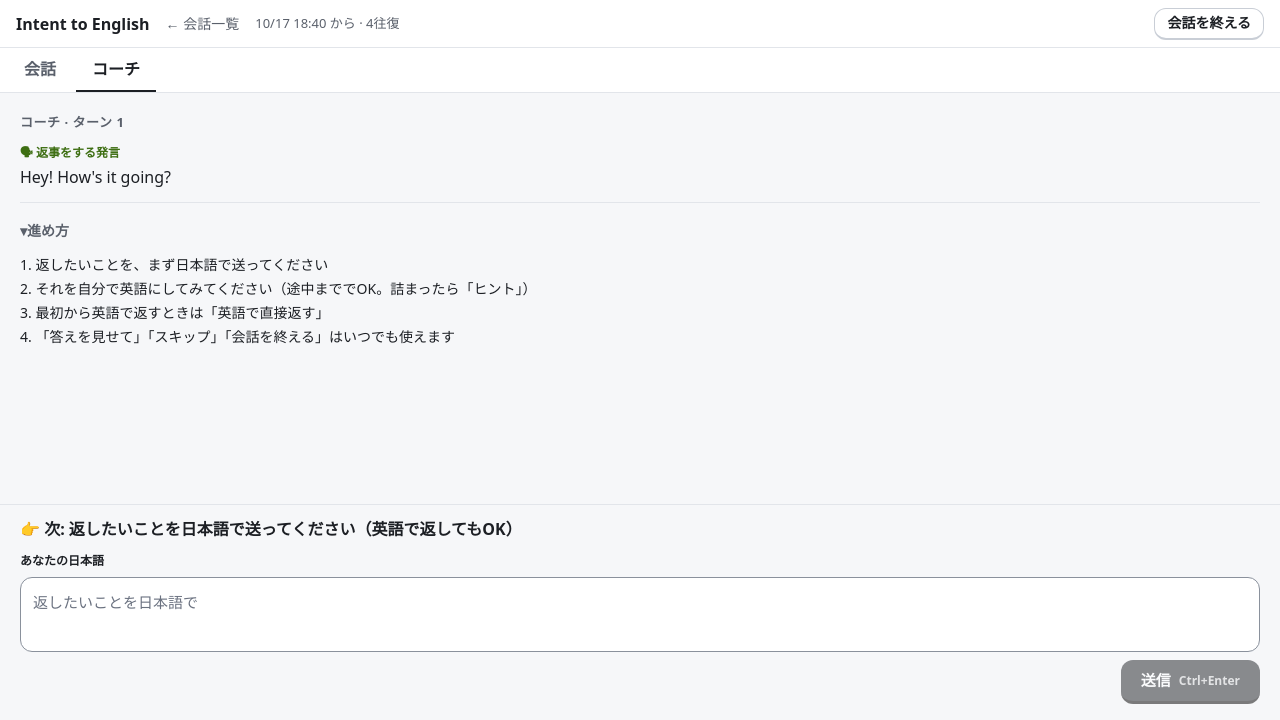
Test case: /sessions/$sessionId › hands focus to the transcript after an end retry with wide layout: false
Click the button "会話を終える". click: [1209, 24]
box: [1154,8,1264,40]
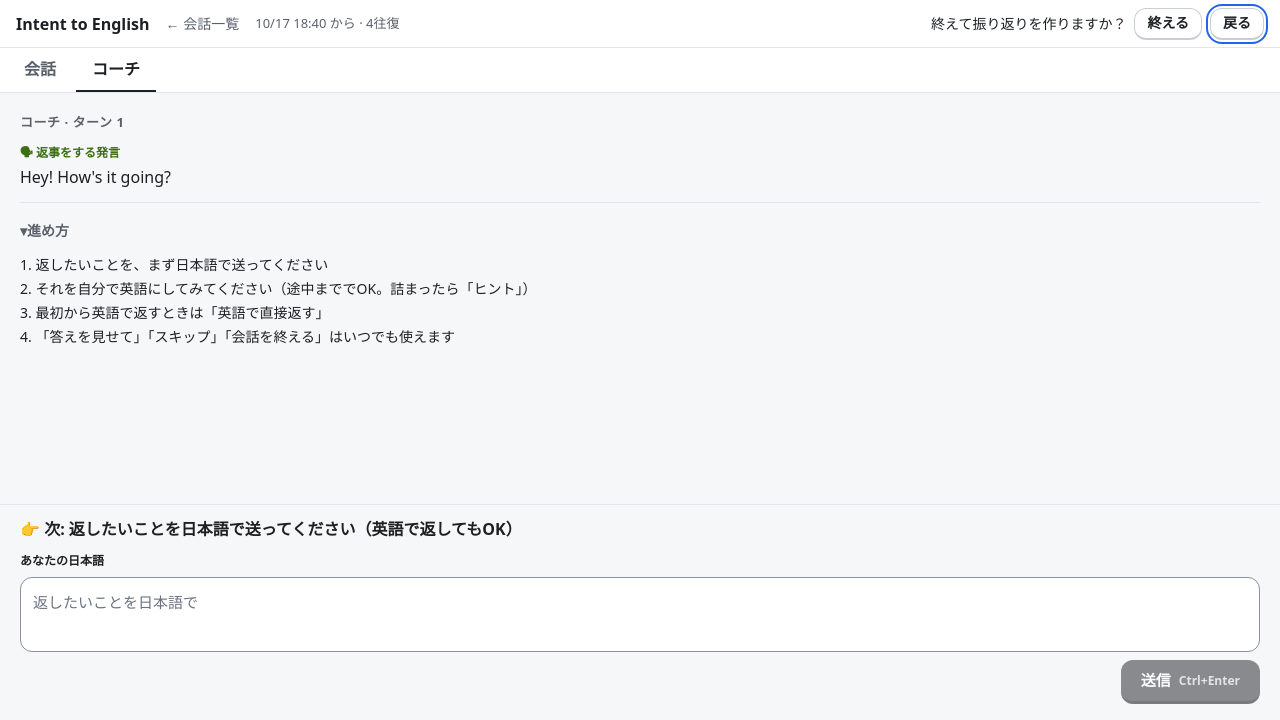
Click the button "終える". click: [1168, 24]
box: [1134,8,1202,40]
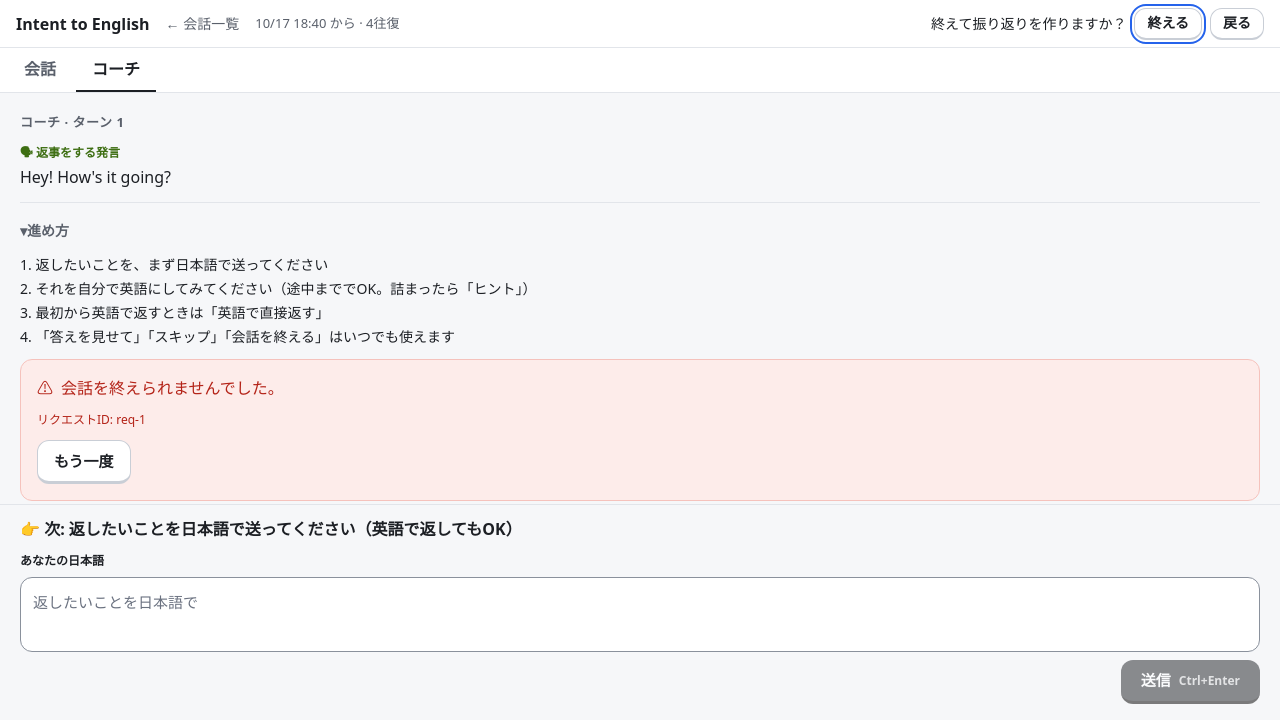
Click the button "もう一度". click: [84, 462]
box: [37,440,131,484]
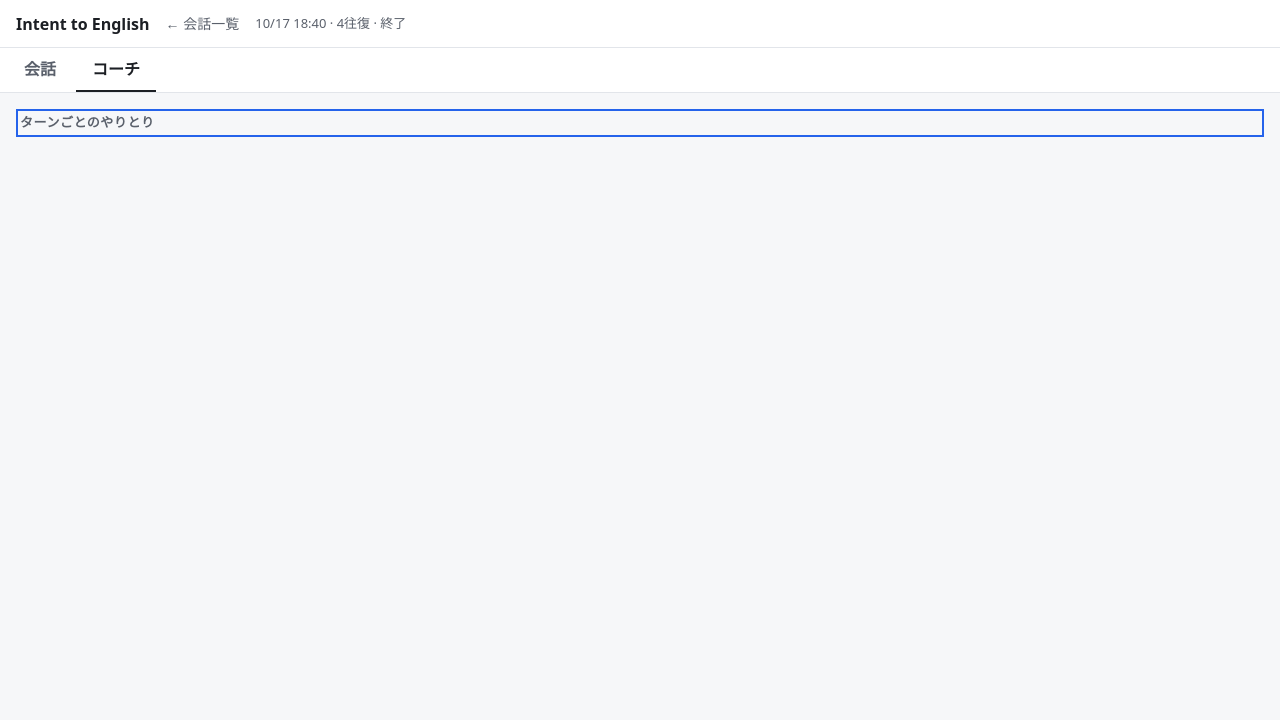
Result: the heading "ターンごとのやりとり" is shown at [20,113,154,131]
